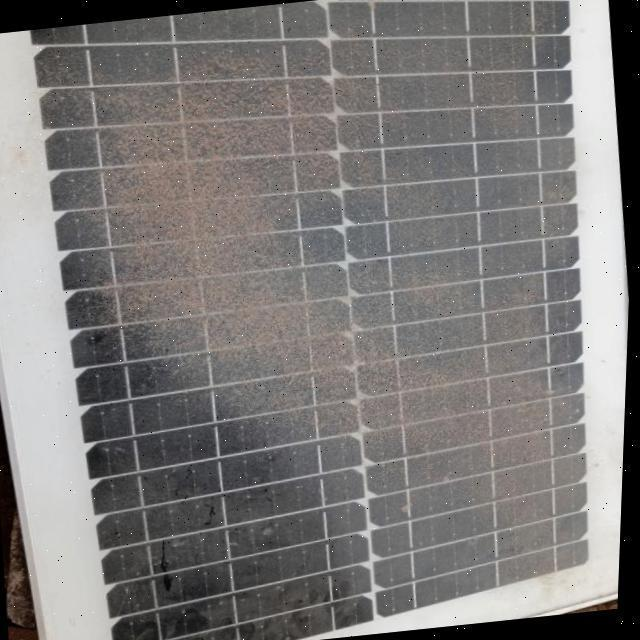Anomaly Solar Panel: (0, 0, 640, 640)
Surface Contaminant: (25, 0, 624, 640)
